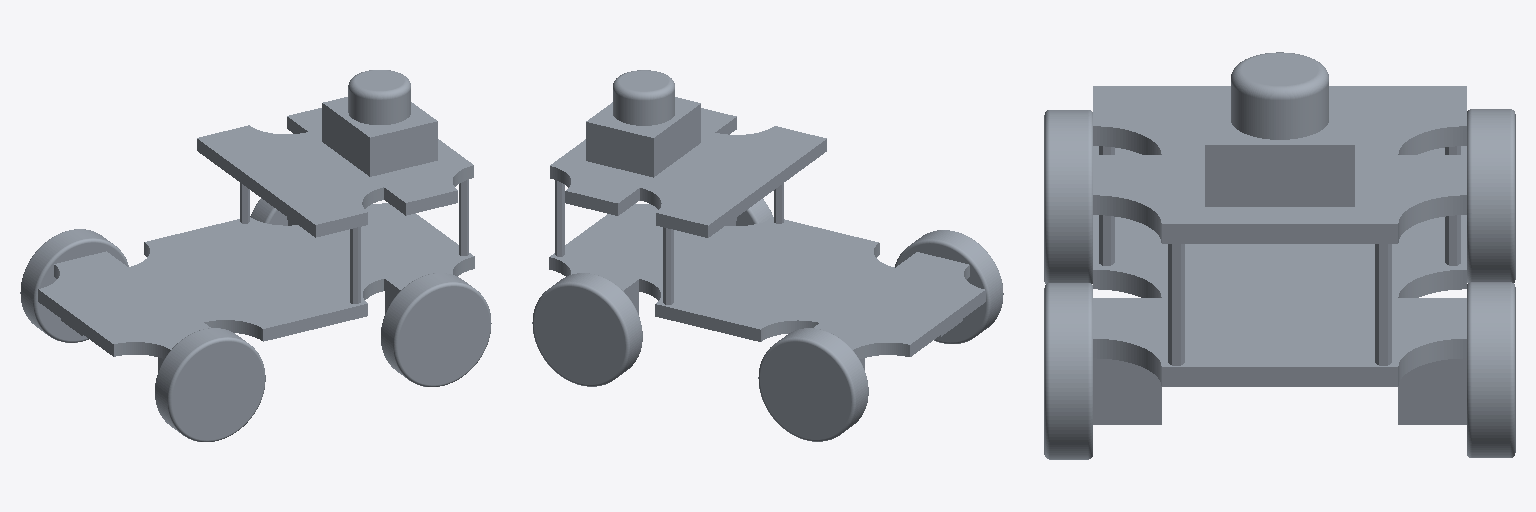
robot.urdf — hkit:
<?xml version="1.0"?>
<robot name="hkit">
  <link name="base_link">
    <visual>
      <!-- CAD +Y를 로봇 +X(전방)로 회전하고, 바닥 중심을 base_link에 맞춤 -->
      <origin
        xyz="0.05979 0 0.04704"
        rpy="0 0 -1.5708"/>

      <geometry>
        <mesh
          filename="package://arduino_cartography/meshes/hkit-Body.stl"
          scale="0.001 0.001 0.001"/>
      </geometry>

      <material name="hkit_body">
        <color rgba="0.65 0.68 0.72 1.0"/>
      </material>
    </visual>
  </link>
</robot>

--- What the picture shows (computed from the rendered views, not written in the file) ---
The picture shows the robot from 3 angles, left to right: view 1: azimuth 30°, elevation 25°; view 2: azimuth 150°, elevation 25°; view 3: azimuth 270°, elevation 25°; orthographic projection.
Model hkit with 1 links and 0 joints (none), rooted at base_link, posed all joints at 0.
Visible links, largest first — view 1: base_link; view 2: base_link; view 3: base_link.
Boxes of the visible links, x1=… form: base_link: x1=20, y1=70, x2=491, y2=441; base_link: x1=532, y1=70, x2=1003, y2=441; base_link: x1=1044, y1=52, x2=1515, y2=459.
Size in the robot's own frame: 0.24 by 0.173 by 0.158 metres.
1 mesh visuals loaded from 1 distinct referenced files (1 binary STL).
